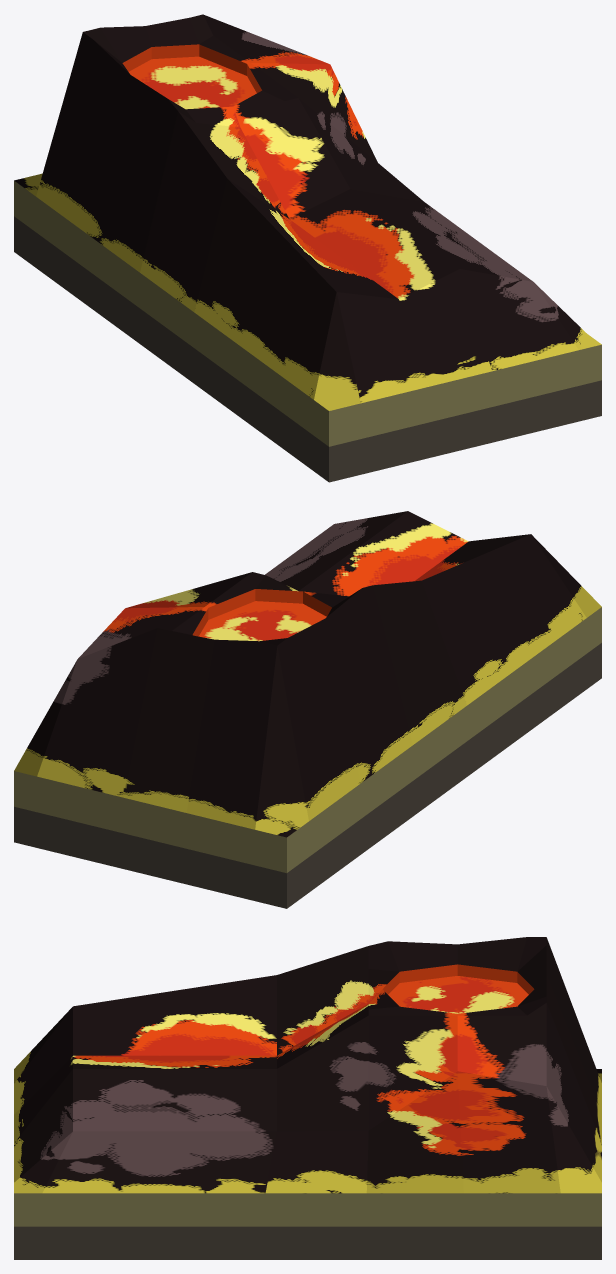
File: tile1_2 Vulkano.fbx
3 views of the same model, one above another, from view 1: azimuth 30°, elevation 25°; view 2: azimuth 150°, elevation 25°; view 3: azimuth 270°, elevation 25° (orthographic). The views are drawn at different scales.
Parts seen in each view (by area): view 1: Cube; view 2: Cube; view 3: Cube.
Boxes of the visible parts, bbox=[...] form: Cube: bbox=[14, 14, 601, 482]; Cube: bbox=[14, 511, 601, 908]; Cube: bbox=[14, 937, 601, 1259].
Bounding box in the file's own units: 200 × 163 × 400.
1 material, 1 textured.
